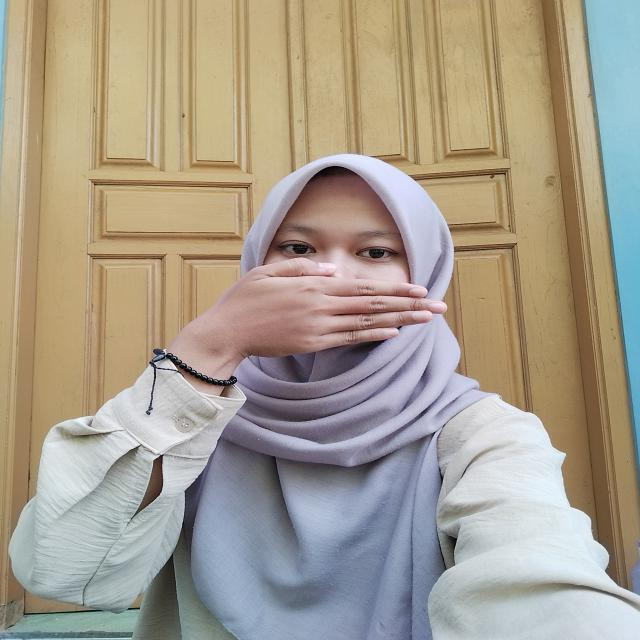buruk: (194, 254, 454, 370)
